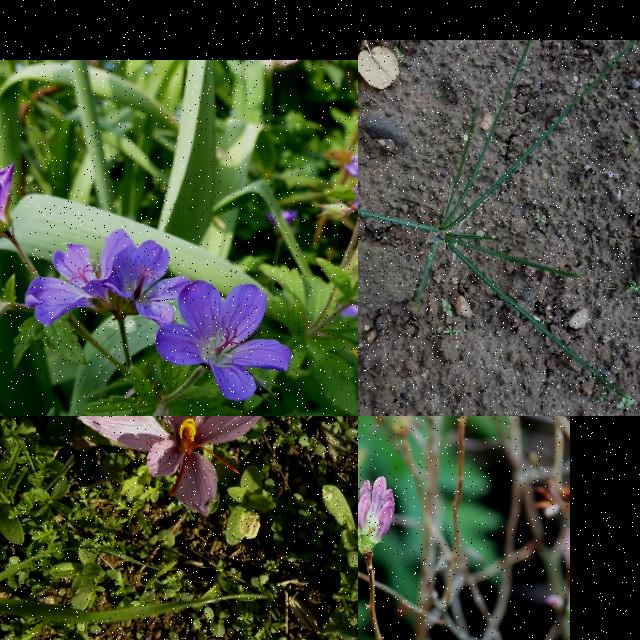flower: (77, 416, 267, 516)
